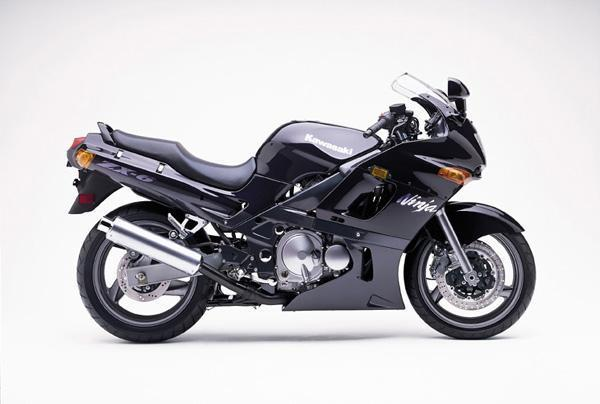motorcycle: (45, 57, 553, 355)
